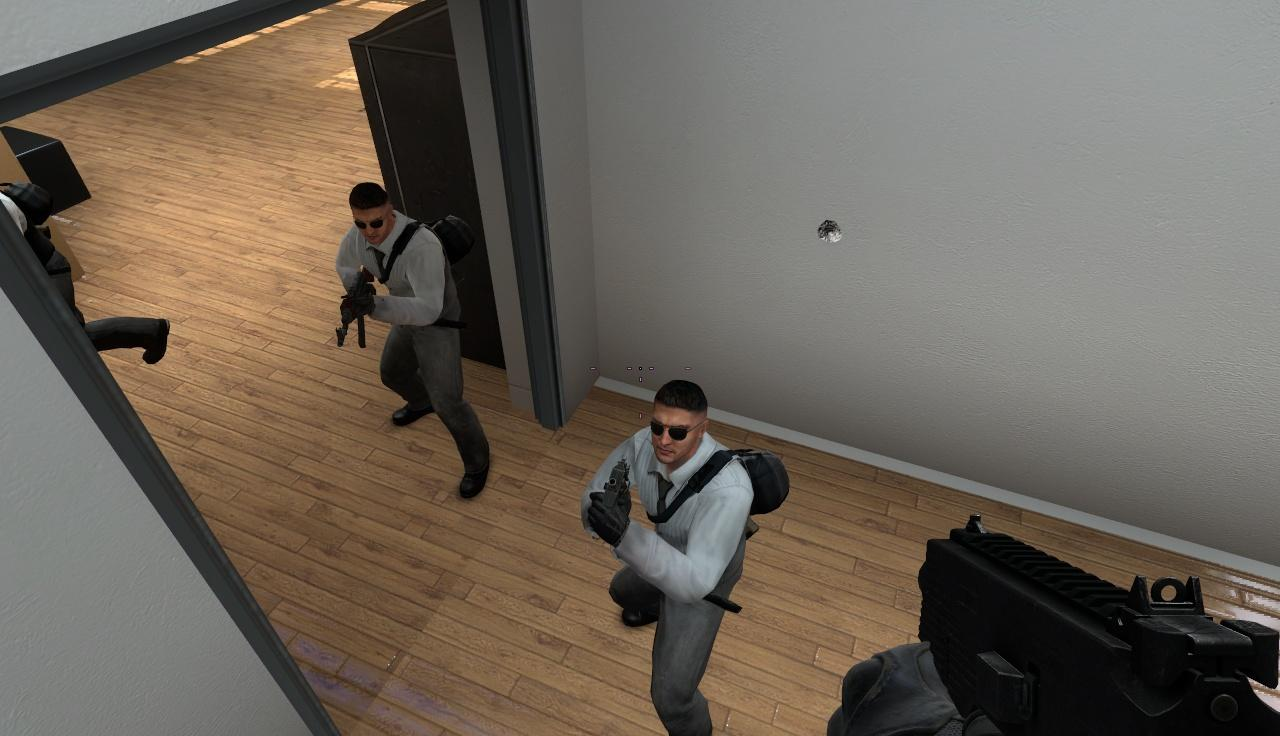rifle: (923, 512, 1280, 736)
tt: (611, 379, 749, 706), (344, 182, 465, 418)
tthead: (651, 380, 707, 460), (350, 183, 392, 245)
